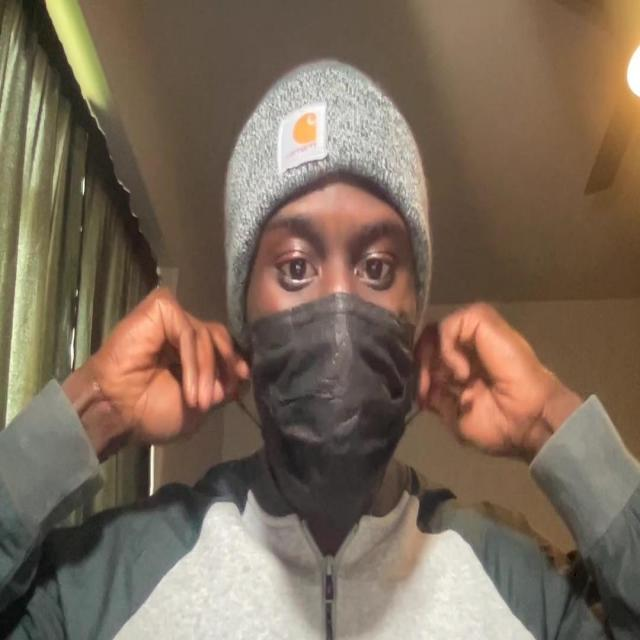face: (224, 74, 432, 508)
